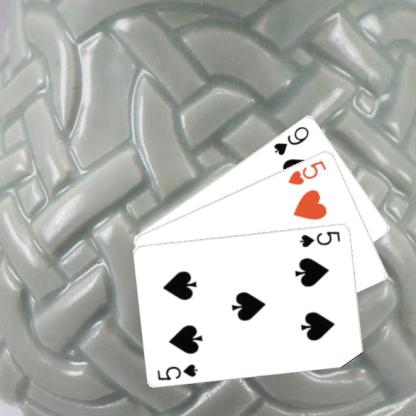5H: (285, 157, 328, 186)
5S: (154, 361, 200, 381), (297, 228, 342, 248)
9S: (271, 122, 310, 156)
